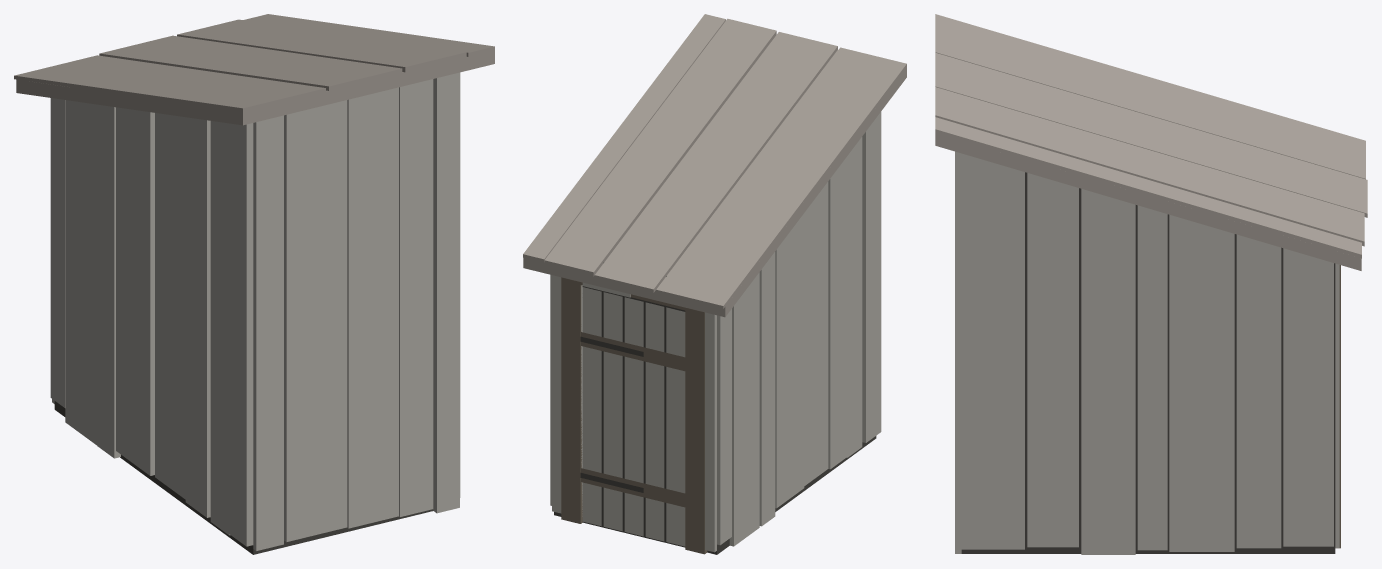
File: recon_1835_blk_south_water_lasalle_a3_07__inferred_1835.glb
The picture shows the model from 3 angles, left to right: view 1: azimuth 30°, elevation 25°; view 2: azimuth 150°, elevation 25°; view 3: azimuth 270°, elevation 25°; orthographic projection. The views are drawn at different scales.
Parts seen in each view (by area): view 1: recon_1835_blk_south_water_lasalle_a3_07__inferred_1835; view 2: recon_1835_blk_south_water_lasalle_a3_07__inferred_1835; view 3: recon_1835_blk_south_water_lasalle_a3_07__inferred_1835.
Boxes of the visible parts, x1,y1,x2,y2 form: recon_1835_blk_south_water_lasalle_a3_07__inferred_1835: (14, 14, 494, 554); recon_1835_blk_south_water_lasalle_a3_07__inferred_1835: (523, 14, 906, 554); recon_1835_blk_south_water_lasalle_a3_07__inferred_1835: (935, 14, 1367, 554).
Bounding box in the file's own units: 1.66 × 2.93 × 2.63.
